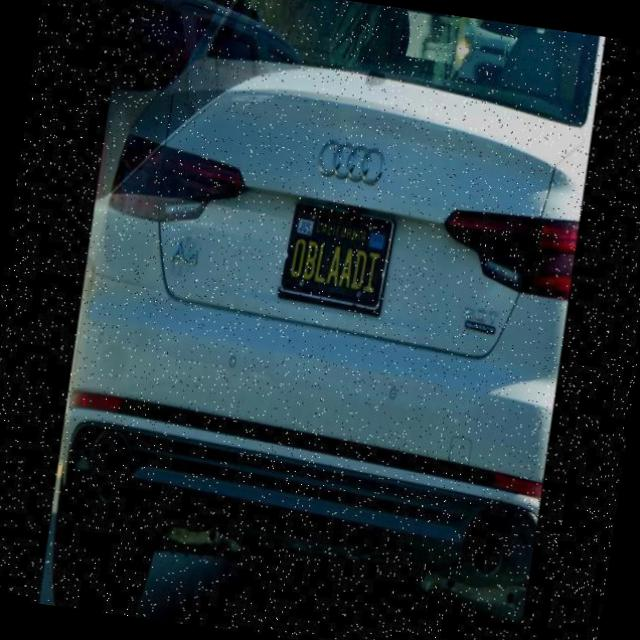LicensePlate: (273, 188, 402, 325)
